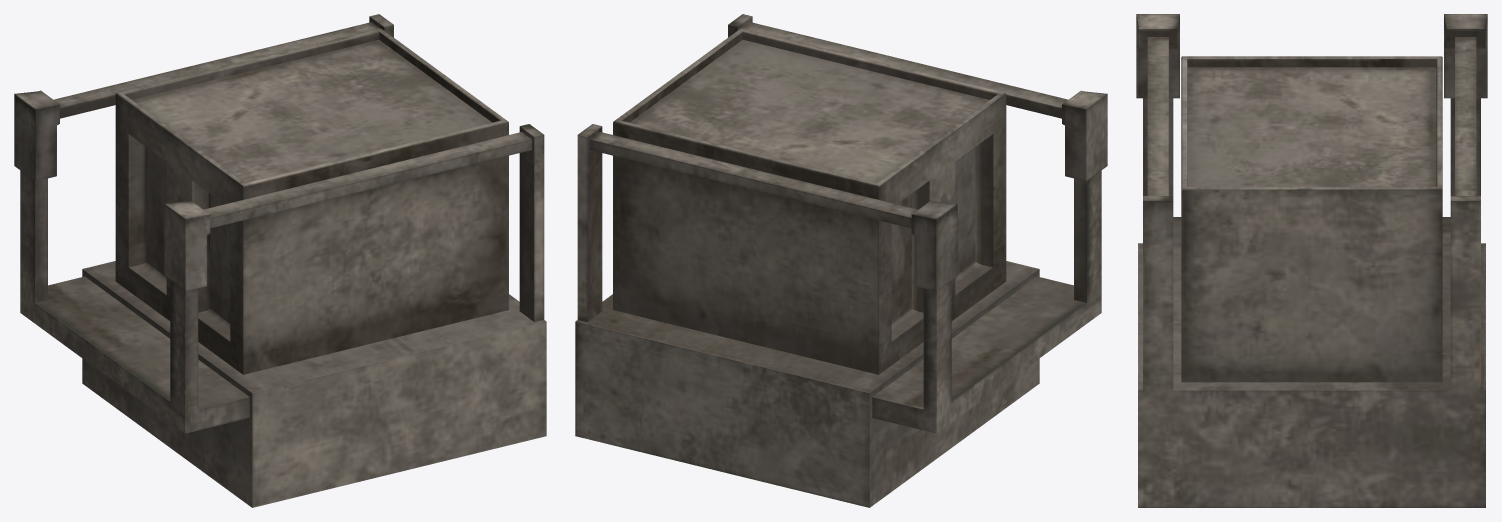
File: bld_e.glb
3 views of the same model, side by side, from view 1: azimuth 30°, elevation 25°; view 2: azimuth 150°, elevation 25°; view 3: azimuth 270°, elevation 25° (orthographic). The views are drawn at different scales.
Visible parts, largest first — view 1: Building_10_Building_0010_0; view 2: Building_10_Building_0010_0; view 3: Building_10_Building_0010_0.
Part boxes in pixels (x1,y1,x2,y2): Building_10_Building_0010_0: [14, 14, 546, 507]; Building_10_Building_0010_0: [575, 14, 1107, 507]; Building_10_Building_0010_0: [1136, 14, 1487, 507].
Bounding box in the file's own units: 8 × 6.46 × 6.57.
Materials: 1 (1 with a texture image).
